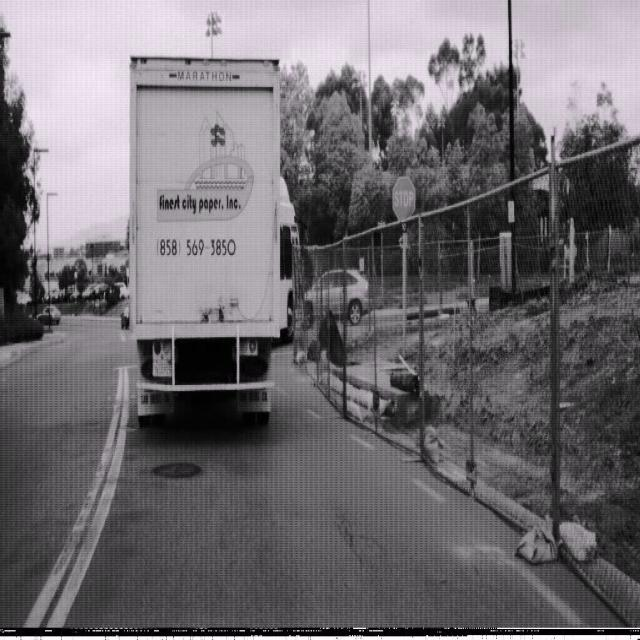stop: (391, 174, 416, 222)
